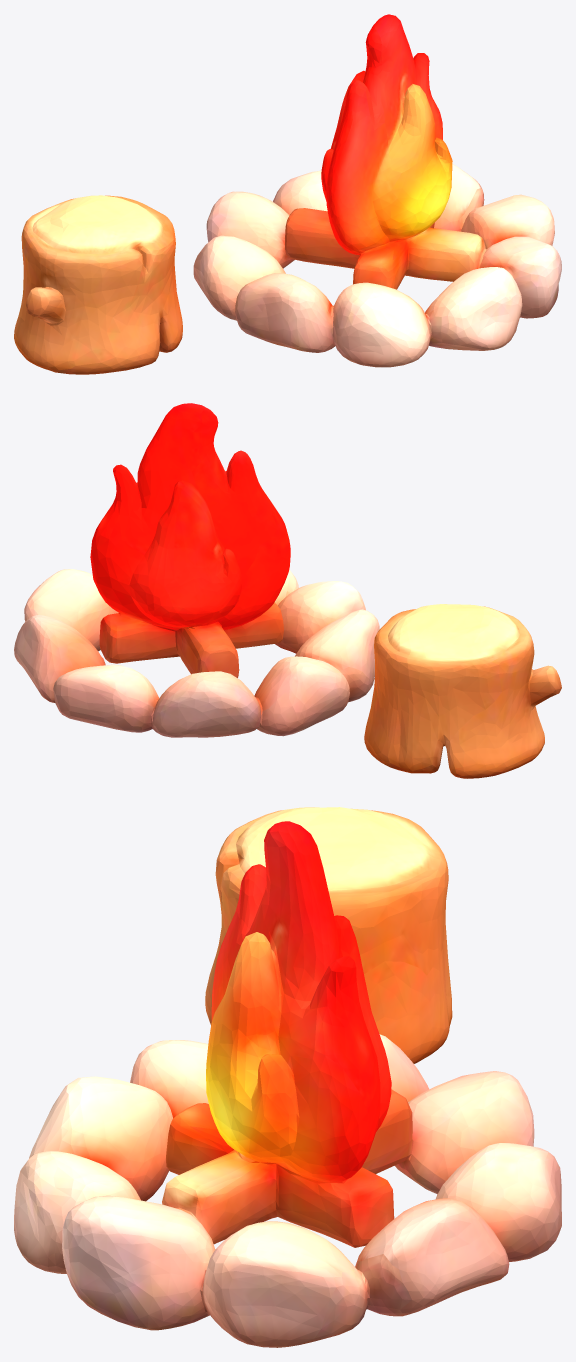
The model's file is campfire.glb.
3 renders of one model, top to bottom at view 1: azimuth 30°, elevation 25°; view 2: azimuth 150°, elevation 25°; view 3: azimuth 270°, elevation 25°, orthographic. The views are drawn at different scales.
Parts seen in each view (by area): view 1: tripo_mesh_c9a9dcbd-fe87-4063-90a9-d5d387a59b18; view 2: tripo_mesh_c9a9dcbd-fe87-4063-90a9-d5d387a59b18; view 3: tripo_mesh_c9a9dcbd-fe87-4063-90a9-d5d387a59b18.
Part boxes in pixels (x1=…): tripo_mesh_c9a9dcbd-fe87-4063-90a9-d5d387a59b18: x1=14, y1=14, x2=561, y2=374; tripo_mesh_c9a9dcbd-fe87-4063-90a9-d5d387a59b18: x1=14, y1=403, x2=561, y2=778; tripo_mesh_c9a9dcbd-fe87-4063-90a9-d5d387a59b18: x1=14, y1=807, x2=561, y2=1347.
Bounding box in the file's own units: 1.97 × 1 × 1.19.
1 material, 1 textured.
